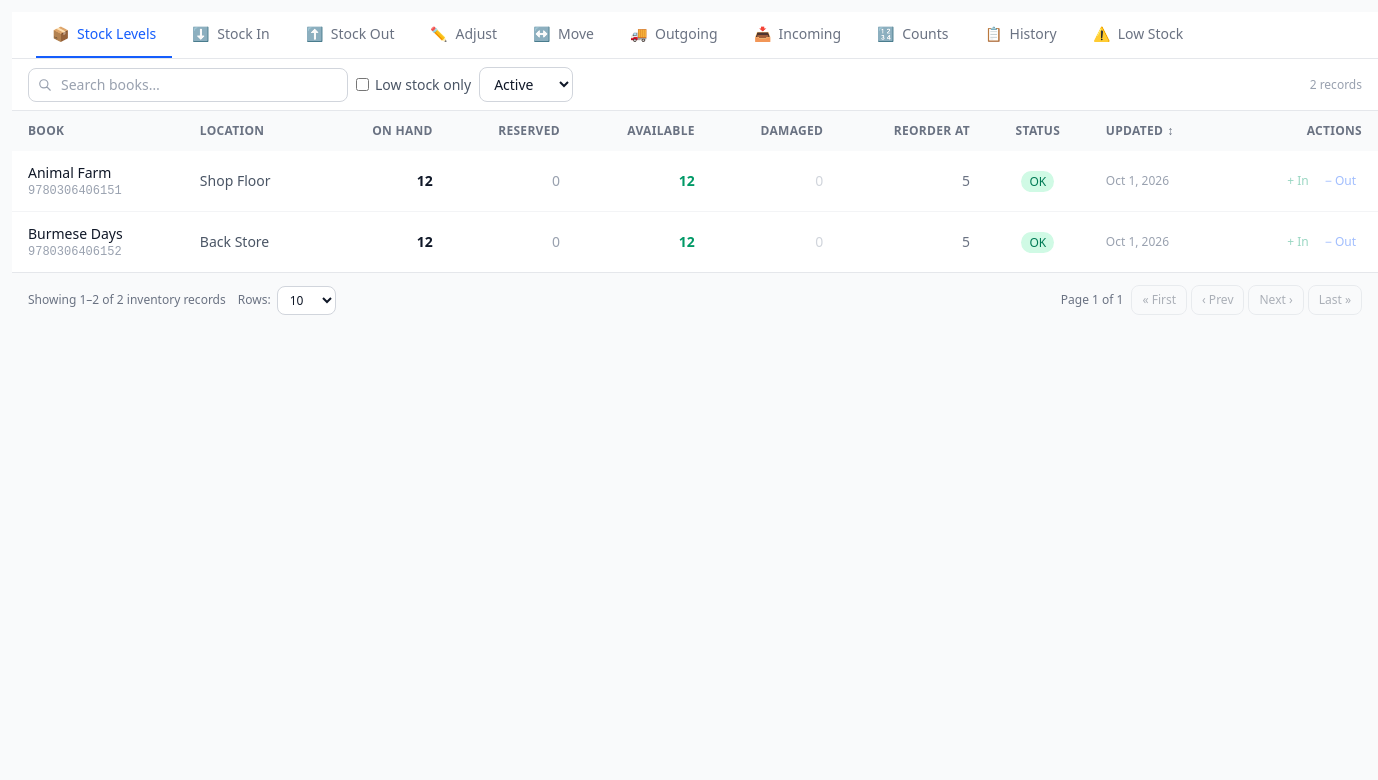
Test: Inventory: Adjust › blocks taking stock below zero when the branch does not allow it (was: sent, then refused)
The width and height of the screenshot is (1378, 780).
Check: the text "Animal Farm" is shown, box [28,163,111,183]
Click the button "✏️ Adjust" at (464, 35), box [414,12,513,58]
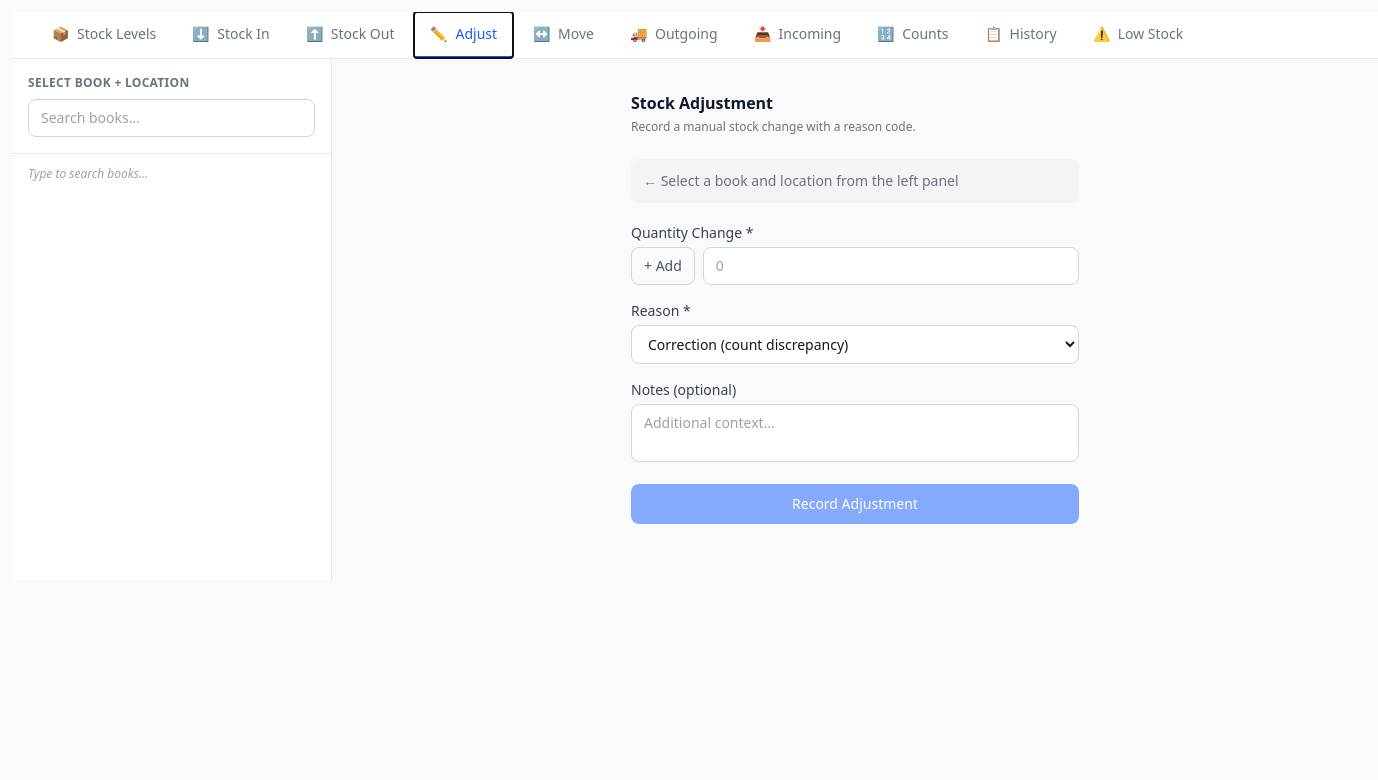
Type "Animal" into the field with placeholder "Search books…" at (172, 118), box [28,99,315,137]
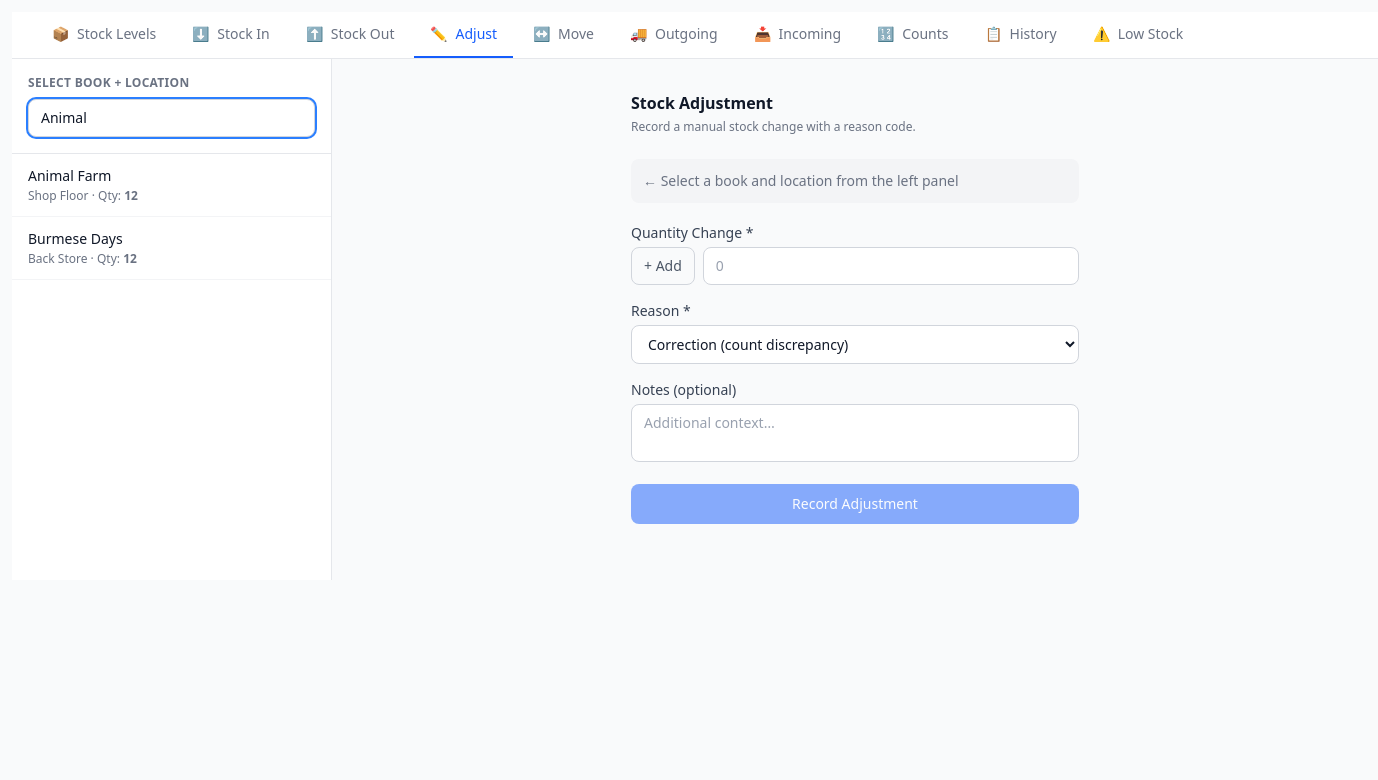
Click the button "Animal Farm Shop Floor · Qty: 12" at (70, 176), box [12,154,331,217]
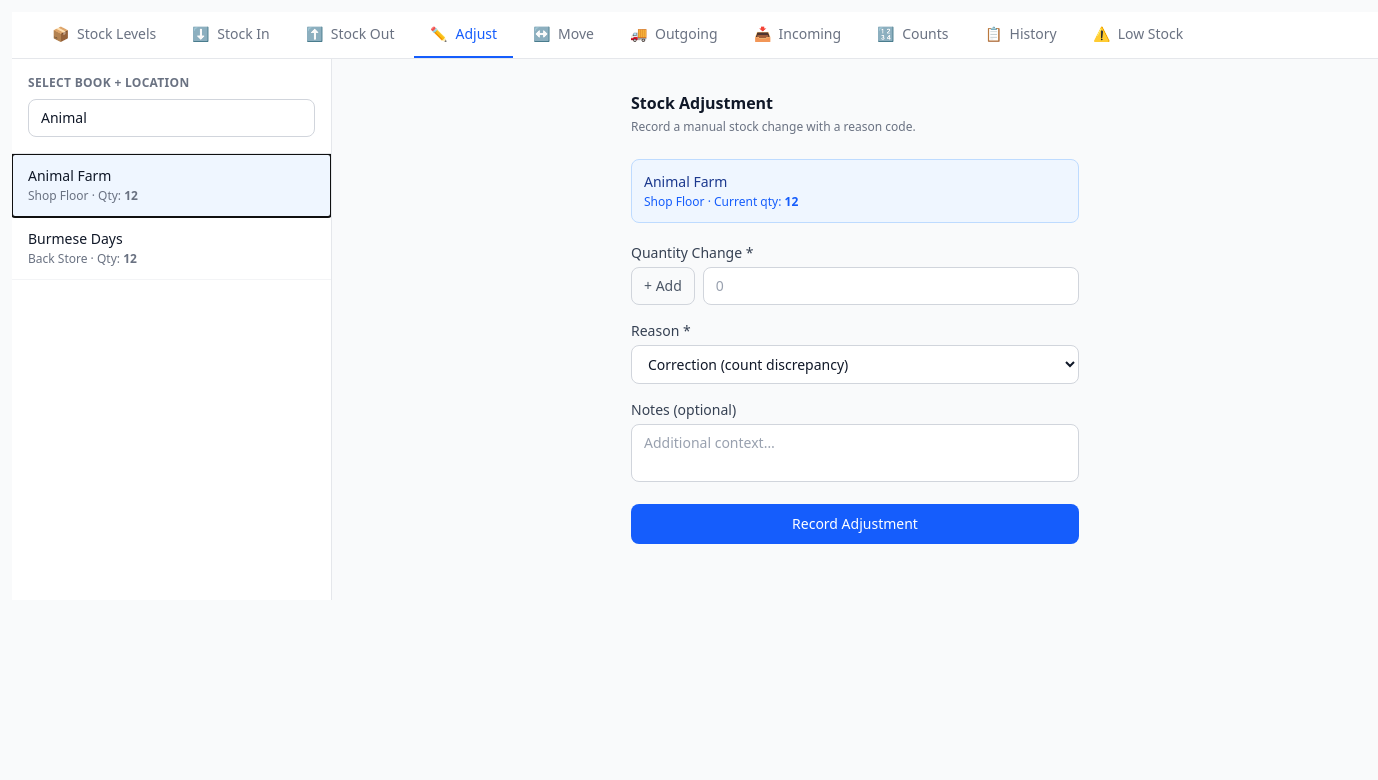
Select "Loss / Theft" in the dropdown at (855, 364), box [631,345,1079,384]
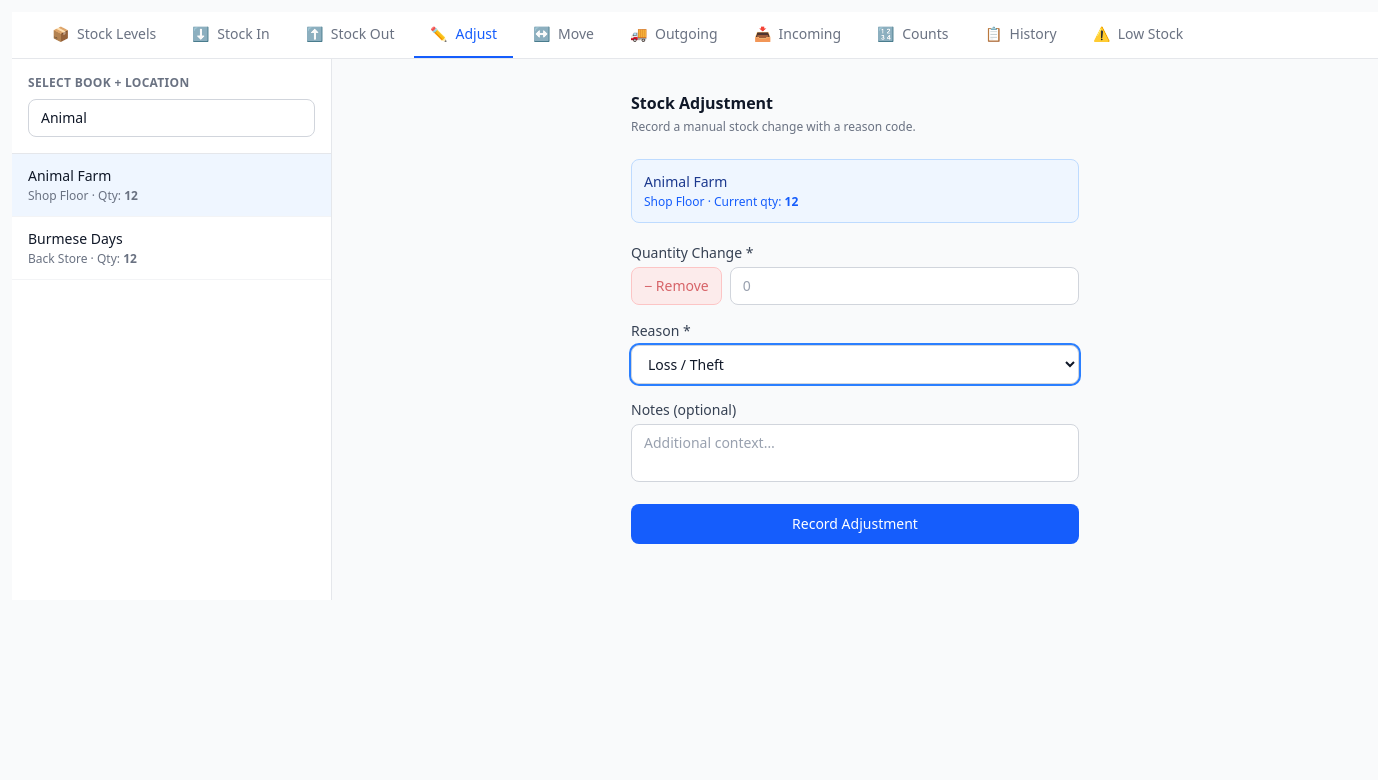
Type "15" into the number field with placeholder "0" at (904, 286), box [730,267,1079,305]
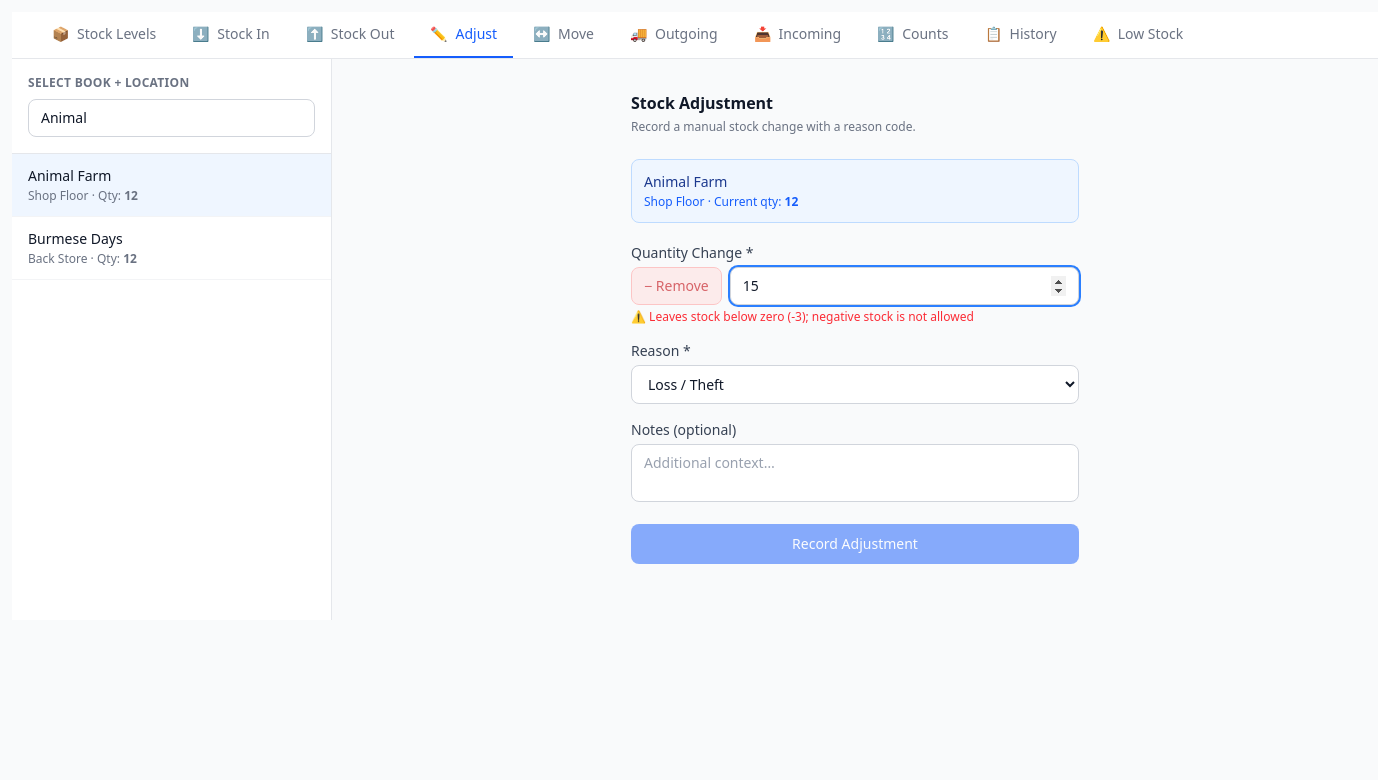
Check: the text "below zero" is shown, box [631,308,974,325]
Check: the button "Record Adjustment" is disabled, box [631,524,1079,564]
